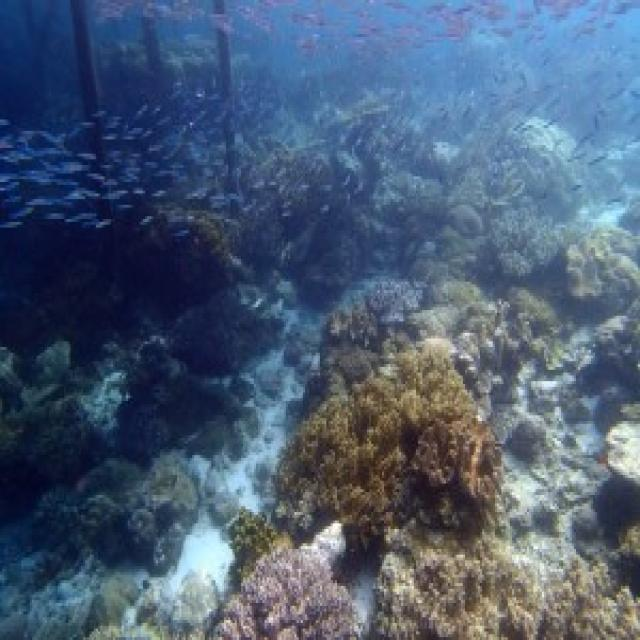Healthy: (278, 348, 500, 550), (310, 283, 543, 416), (372, 533, 639, 638), (214, 524, 362, 638), (564, 229, 639, 396), (513, 291, 558, 362), (611, 425, 639, 485), (434, 283, 485, 303)
